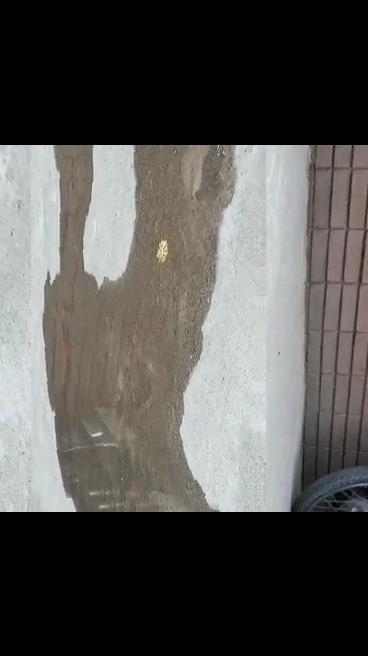water accumulation: (41, 144, 242, 512)
